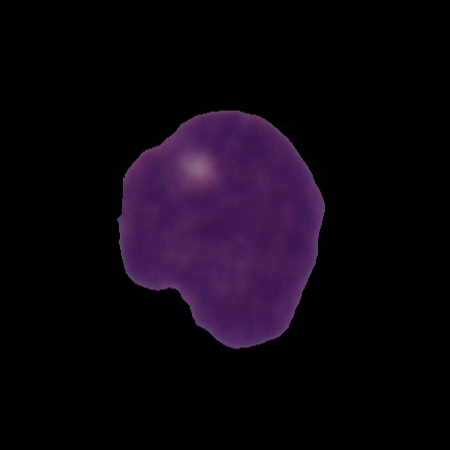ALL: (114, 105, 329, 351)
